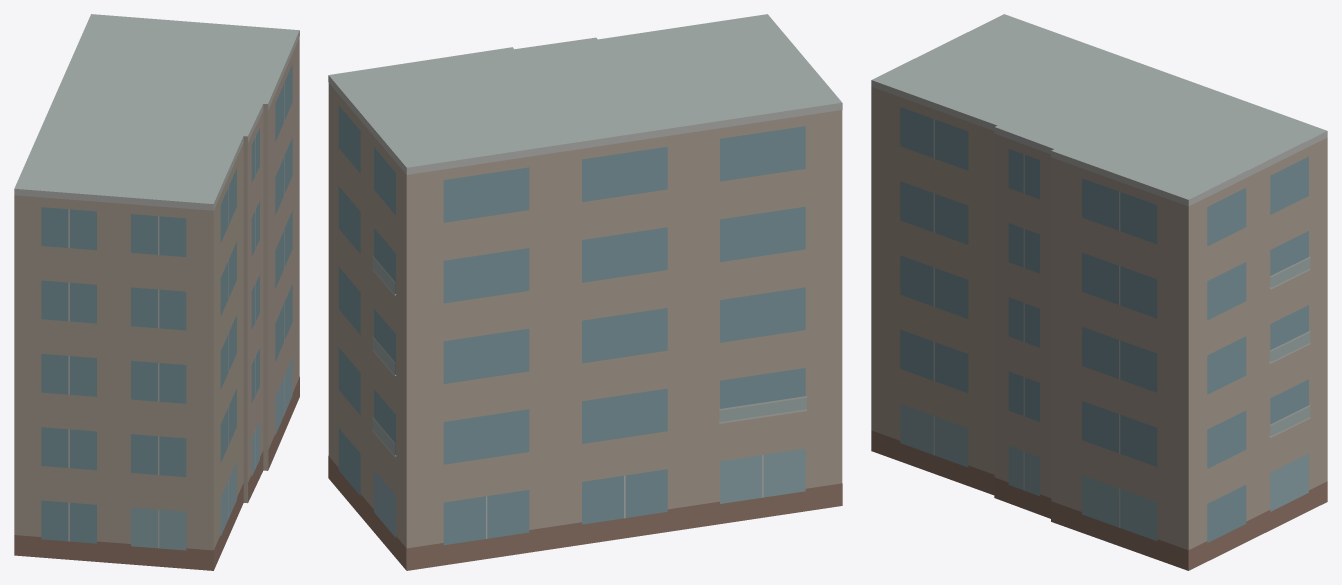
The model's file is survey-upis-32538695.glb.
3 views of the same model, side by side, from view 1: azimuth 30°, elevation 25°; view 2: azimuth 150°, elevation 25°; view 3: azimuth 270°, elevation 25° (orthographic). The views are drawn at different scales.
Visible parts, largest first — view 1: survey-upis-32538695.tmp; view 2: survey-upis-32538695.tmp; view 3: survey-upis-32538695.tmp.
Boxes of the visible parts, bbox=[...] form: survey-upis-32538695.tmp: bbox=[14, 14, 299, 570]; survey-upis-32538695.tmp: bbox=[328, 14, 842, 570]; survey-upis-32538695.tmp: bbox=[871, 14, 1327, 570].
Bounding box in the file's own units: 14.73 × 13.7 × 15.27.
